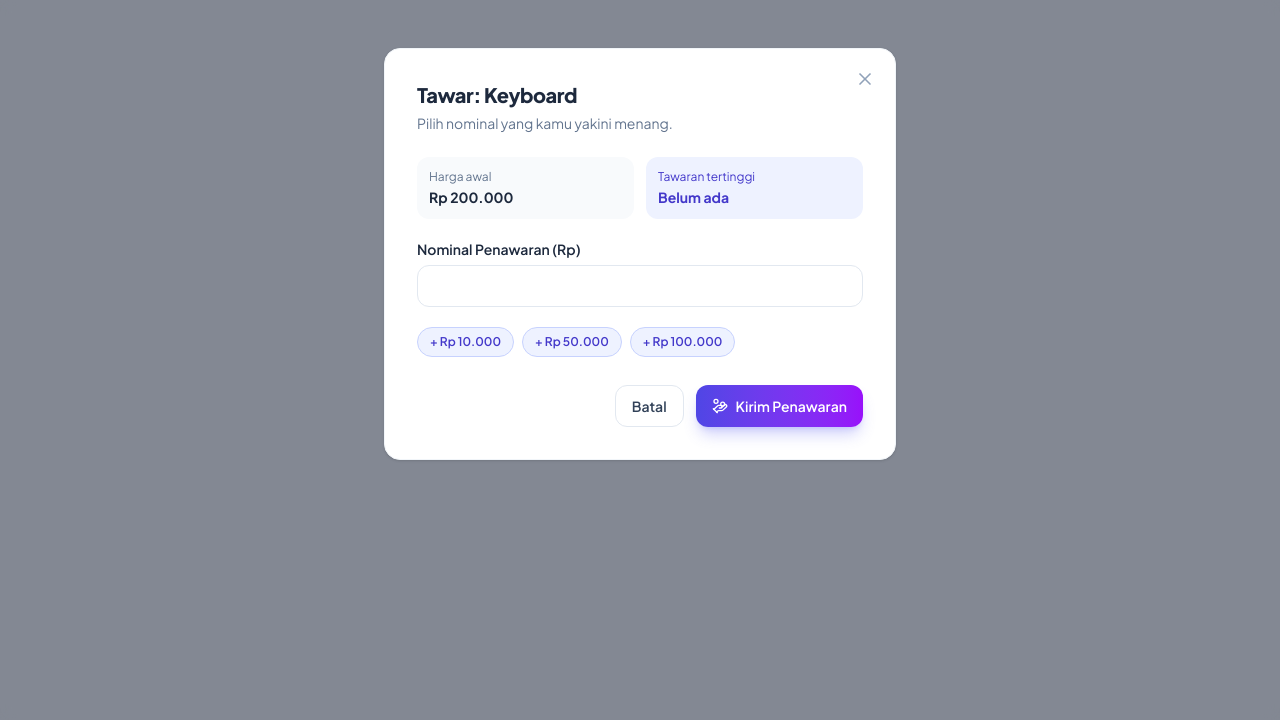
Test: BidModal › tombol cepat mengisi nominal dari harga awal bila belum ada bid
Click the button "+ Rp 10.000": (466, 342) [417,327,514,357]
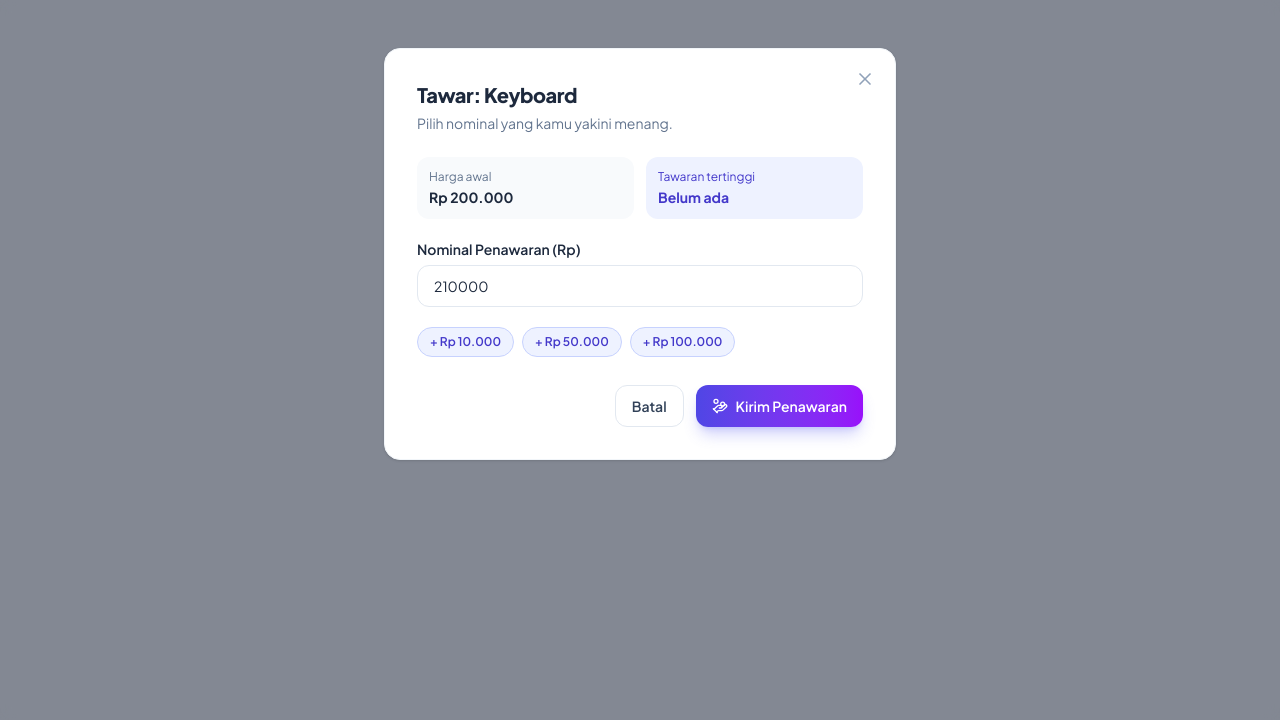
Expected: the number field with id "bid-amount" holds "210000", [417,265,863,307]
